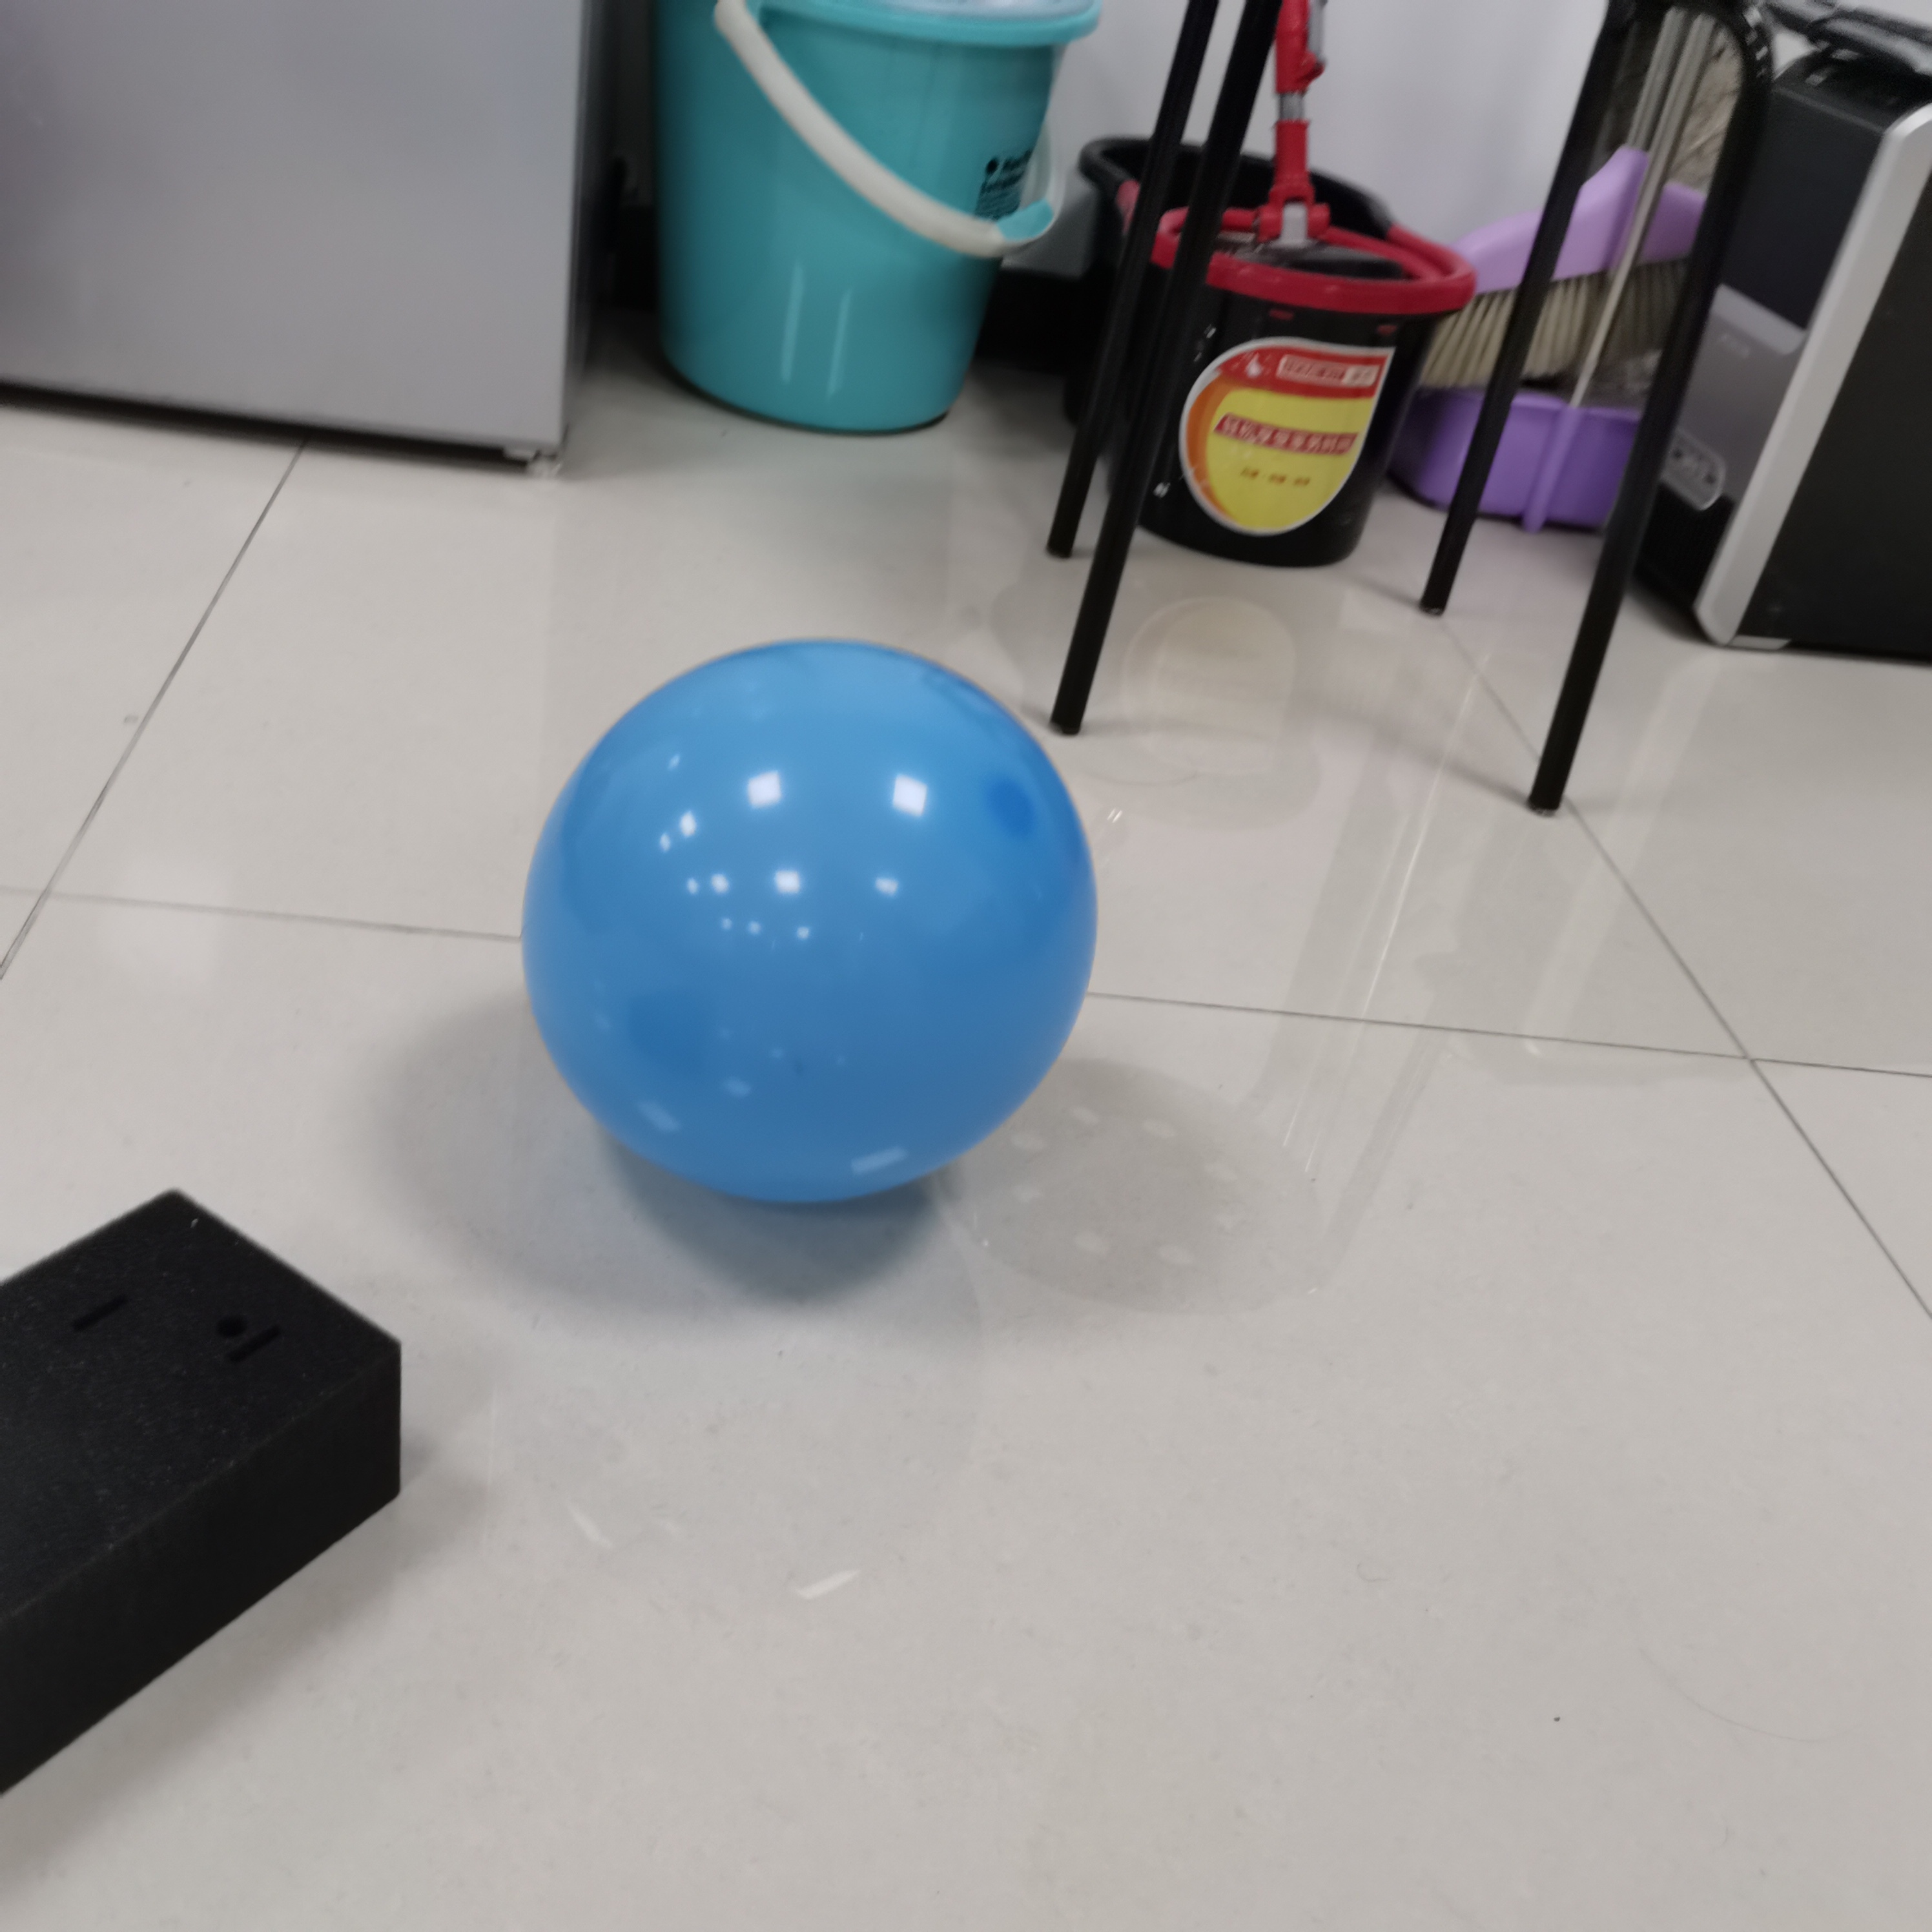balloon: (518, 644, 1100, 1205)
